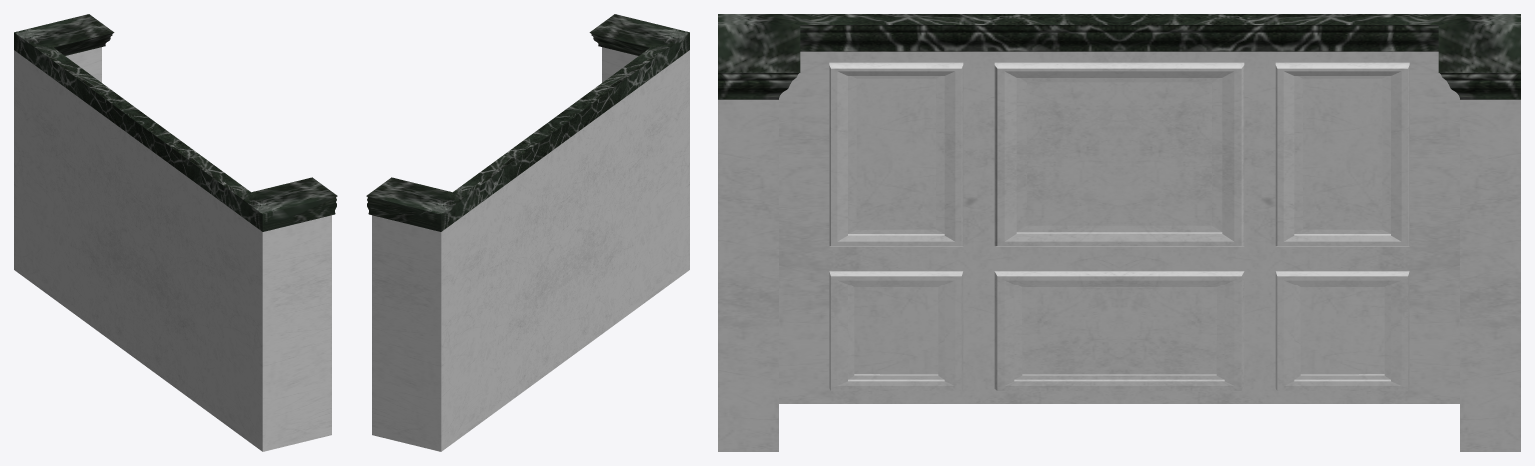
The model's file is ShortWall2.fbx.
3 views of the same model, side by side, from view 1: azimuth 30°, elevation 25°; view 2: azimuth 150°, elevation 25°; view 3: azimuth 270°, elevation 25° (orthographic). The views are drawn at different scales.
Parts seen in each view (by area): view 1: polySurface12, polySurface13; view 2: polySurface12, polySurface13; view 3: polySurface12, polySurface13.
Part boxes in pixels (x1,y1,x2,y2): polySurface12: (14,47,331,451); polySurface13: (14,14,337,231); polySurface12: (372,47,689,451); polySurface13: (366,14,689,231); polySurface12: (718,51,1520,451); polySurface13: (718,14,1520,99).
Bounding box in the file's own units: 9.3 × 28.14 × 53.38.
